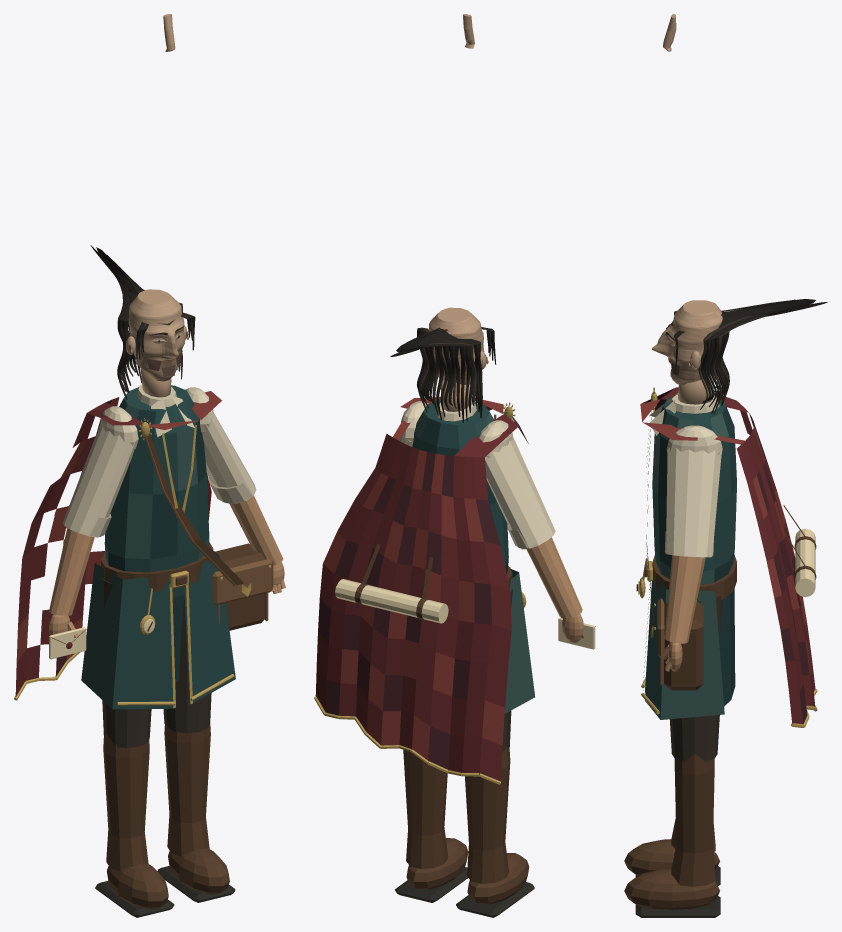
File: courier.glb
3 views of the same model, side by side, from view 1: azimuth 30°, elevation 25°; view 2: azimuth 150°, elevation 25°; view 3: azimuth 270°, elevation 25° (orthographic).
Parts seen in each view (by area): view 1: Waistcoat, Split_coat_R, Cloak_folds, Boot_shaft_R, Boot_shaft_L, Split_coat_L, Linen_sleeve_R, Face, Forearm_R, Trouser_thigh_L, Linen_sleeve_L, Boot_toe_L (+13 smaller); view 2: Cloak_folds, Boot_shaft_R, Boot_shaft_L, Linen_sleeve_R, Waistcoat, Split_coat_R, Map_roll, Forearm_R, Face, Boot_toe_L, Boot_toe_R, Boot_sole_R (+2 smaller); view 3: Cloak_folds, Waistcoat, Linen_sleeve_L, Boot_shaft_L, Split_coat_L, Face, Boot_toe_L, Forearm_L, Trouser_thigh_L, Messenger_satchel, Back_coat, Boot_toe_R (+8 smaller).
Boxes of the visible parts, left/top/right/bottom form: Waistcoat: left=104, top=385, right=209, bottom=597; Split_coat_R: left=81, top=563, right=173, bottom=709; Cloak_folds: left=15, top=391, right=221, bottom=696; Boot_shaft_R: left=103, top=734, right=149, bottom=871; Boot_shaft_L: left=164, top=721, right=210, bottom=856; Split_coat_L: left=184, top=551, right=235, bottom=704; Linen_sleeve_R: left=62, top=424, right=136, bottom=537; Face: left=128, top=289, right=184, bottom=381; Forearm_R: left=49, top=528, right=94, bottom=615; Trouser_thigh_L: left=163, top=596, right=211, bottom=733; Linen_sleeve_L: left=202, top=412, right=256, bottom=503; Boot_toe_L: left=168, top=848, right=229, bottom=894; Cloak_folds: left=315, top=397, right=528, bottom=781; Boot_shaft_R: left=465, top=746, right=510, bottom=883; Boot_shaft_L: left=403, top=750, right=448, bottom=868; Linen_sleeve_R: left=485, top=436, right=555, bottom=549; Waistcoat: left=412, top=399, right=508, bottom=573; Split_coat_R: left=504, top=568, right=535, bottom=713; Map_roll: left=335, top=579, right=448, bottom=623; Forearm_R: left=526, top=537, right=582, bottom=618; Face: left=428, top=307, right=484, bottom=384; Boot_toe_L: left=406, top=838, right=468, bottom=889; Boot_toe_R: left=467, top=853, right=529, bottom=904; Boot_sole_R: left=456, top=882, right=534, bottom=917; Cloak_folds: left=640, top=387, right=815, bottom=724; Waistcoat: left=652, top=394, right=736, bottom=584; Linen_sleeve_L: left=666, top=447, right=721, bottom=557; Boot_shaft_L: left=671, top=754, right=715, bottom=886; Split_coat_L: left=645, top=569, right=724, bottom=719; Face: left=652, top=300, right=722, bottom=385; Boot_toe_L: left=624, top=869, right=719, bottom=909; Forearm_L: left=664, top=555, right=705, bottom=643; Trouser_thigh_L: left=669, top=595, right=722, bottom=762; Messenger_satchel: left=664, top=601, right=703, bottom=690; Back_coat: left=718, top=589, right=735, bottom=706; Boot_toe_R: left=624, top=839, right=719, bottom=875.
Size of the model in its own units: 0.7395 by 2.59 by 0.5426.
